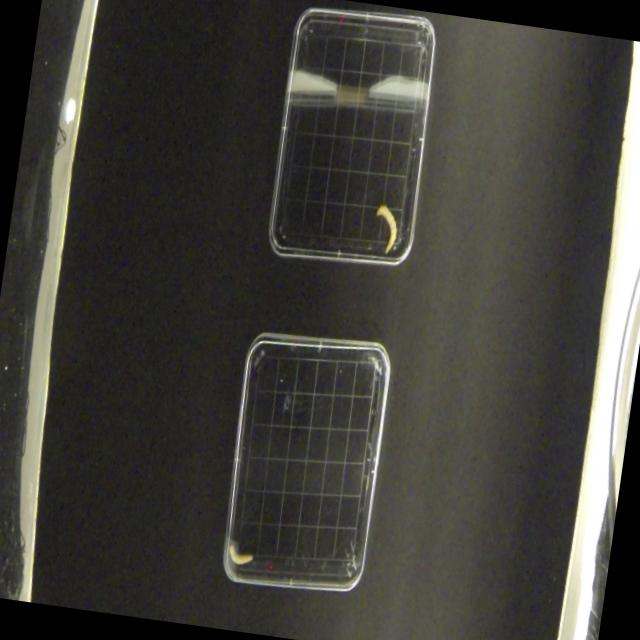larva: (370, 202, 401, 254), (225, 536, 255, 570)
